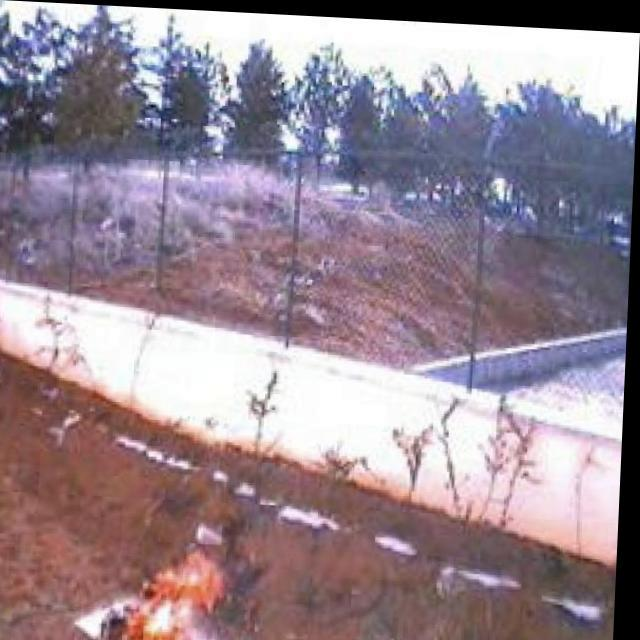fire: (99, 542, 233, 640)
